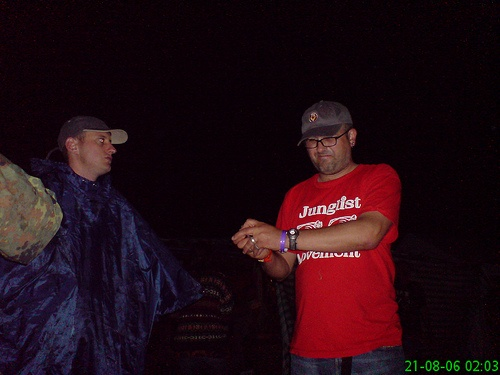head: (294, 99, 360, 177), (67, 113, 123, 178)
person: (1, 114, 199, 369), (235, 99, 402, 375)
